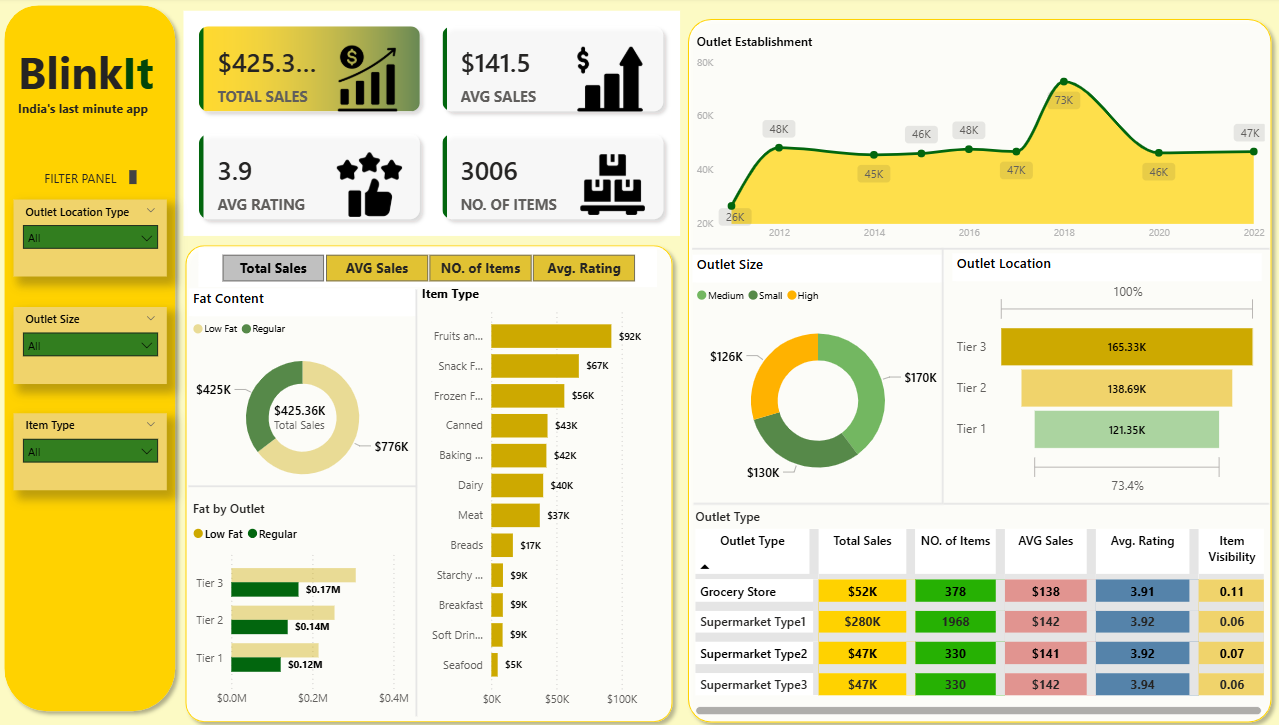

The dashboard page shown, as its layout file describes it:
{"tool":"powerbi","page":{"name":"Page 1","canvas":[1400,800],"ordinal":0},"visuals":[{"type":"shape","box":[0,0,204.5,788],"z":0},{"type":"textbox","box":[18.9,44.2,167.3,78.9],"z":1000},{"type":"textbox","box":[18.9,107.3,156.2,30],"z":2000},{"type":"cardVisual","fields":{"Data":["BlinkIT Grocery Data.Total Sales","BlinkIT Grocery Data.AVG Sales","BlinkIT Grocery Data.Avg. Rating","BlinkIT Grocery Data.NO. of Items"]},"box":[204.5,15,541.2,245.4],"z":3000},{"type":"shape","box":[197.3,262,549.2,538.1],"z":4000},{"type":"donutChart","title":"Fat Content","fields":{"Y":["BlinkIT Grocery Data.Total Sales"],"Category":["BlinkIT Grocery Data.Item Fat Content"]},"box":[209.9,317.2,249.3,230.4],"z":5000},{"type":"slicer","fields":{"Values":["metrics.metrics"]},"box":[220.9,274.6,500.2,42.6],"z":6000},{"type":"cardVisual","fields":{"Data":["BlinkIT Grocery Data.Total Sales"]},"box":[285.6,421.3,99.4,74.2],"z":6001},{"type":"clusteredBarChart","title":"Fat by Outlet","fields":{"Y":["BlinkIT Grocery Data.Total Sales"],"Category":["BlinkIT Grocery Data.Outlet Location Type"],"Series":["BlinkIT Grocery Data.Item Fat Content"]},"box":[209.9,547.6,249.3,235.1],"z":6002},{"type":"shape","box":[209.9,519.2,249.3,28.4],"z":6003},{"type":"shape","box":[440.3,318.8,36.3,465.5],"z":6004},{"type":"barChart","title":"Item Type","fields":{"Y":["BlinkIT Grocery Data.Total Sales"],"Category":["BlinkIT Grocery Data.Item Type"]},"box":[459.2,314,273,470.3],"z":6005},{"type":"shape","box":[745.7,15,654.4,785.3],"z":6006},{"type":"lineChart","title":"Outlet Establishment","fields":{"Category":["BlinkIT Grocery Data.Outlet Establishment Year"],"Y":["Sum(BlinkIT Grocery Data.Sales)"]},"box":[759,39.5,629.6,235.1],"z":6007},{"type":"shape","box":[759,260.4,629.6,28.4],"z":6008},{"type":"donutChart","title":"Outlet Size","fields":{"Y":["BlinkIT Grocery Data.Total Sales"],"Category":["BlinkIT Grocery Data.Outlet Size"]},"box":[759,280.9,274.6,266.7],"z":6009},{"type":"shape","box":[1014.7,274.6,36.3,277.7],"z":6010},{"type":"funnel","title":"Outlet Location","fields":{"Y":["Sum(BlinkIT Grocery Data.Sales)"],"Category":["BlinkIT Grocery Data.Outlet Location Type"]},"box":[1043.1,279.3,337.7,268.3],"z":6011},{"type":"shape","box":[760.6,538.1,273,28.4],"z":6012},{"type":"shape","box":[1033.6,538.1,355.1,28.4],"z":6013},{"type":"pivotTable","title":"Outlet Type","fields":{"Rows":["BlinkIT Grocery Data.Outlet Type"],"Values":["BlinkIT Grocery Data.Total Sales","BlinkIT Grocery Data.NO. of Items","BlinkIT Grocery Data.AVG Sales","BlinkIT Grocery Data.Avg. Rating","Avg(BlinkIT Grocery Data.Item Visibility)"]},"box":[757.4,557,629.6,230.4],"z":6014},{"type":"slicer","fields":{"Values":["BlinkIT Grocery Data.Outlet Location Type"]},"box":[18.9,220.9,167.3,83.6],"z":6015},{"type":"slicer","fields":{"Values":["BlinkIT Grocery Data.Outlet Size"]},"box":[18.9,337.7,167.3,83.6],"z":6016},{"type":"slicer","fields":{"Values":["BlinkIT Grocery Data.Item Type"]},"box":[18.9,454.5,167.3,83.6],"z":6017},{"type":"textbox","box":[47.3,184.6,110.5,25.2],"z":6018}]}

Visuals, with their boxes in screenshot pixels (x1, y1, x2, y2), scaled from the page's 1400x800 canvas onto the 1279x725 screenshot:
shape: bbox=[0, 0, 187, 714]
textbox: bbox=[17, 40, 170, 112]
textbox: bbox=[17, 97, 160, 124]
cardVisual - BlinkIT Grocery Data.Total Sales x BlinkIT Grocery Data.AVG Sales: bbox=[187, 14, 681, 236]
shape: bbox=[180, 237, 682, 724]
"Fat Content" donutChart: bbox=[192, 287, 420, 496]
slicer - metrics.metrics: bbox=[202, 249, 659, 287]
cardVisual - BlinkIT Grocery Data.Total Sales: bbox=[261, 382, 352, 449]
"Fat by Outlet" clusteredBarChart: bbox=[192, 496, 420, 709]
shape: bbox=[192, 471, 420, 496]
shape: bbox=[402, 289, 435, 711]
"Item Type" barChart: bbox=[420, 285, 669, 711]
shape: bbox=[681, 14, 1278, 724]
"Outlet Establishment" lineChart: bbox=[693, 36, 1269, 249]
shape: bbox=[693, 236, 1269, 262]
"Outlet Size" donutChart: bbox=[693, 255, 944, 496]
shape: bbox=[927, 249, 960, 501]
"Outlet Location" funnel: bbox=[953, 253, 1261, 496]
shape: bbox=[695, 488, 944, 513]
shape: bbox=[944, 488, 1269, 513]
"Outlet Type" pivotTable: bbox=[692, 505, 1267, 714]
slicer - BlinkIT Grocery Data.Outlet Location Type: bbox=[17, 200, 170, 276]
slicer - BlinkIT Grocery Data.Outlet Size: bbox=[17, 306, 170, 382]
slicer - BlinkIT Grocery Data.Item Type: bbox=[17, 412, 170, 488]
textbox: bbox=[43, 167, 144, 190]
